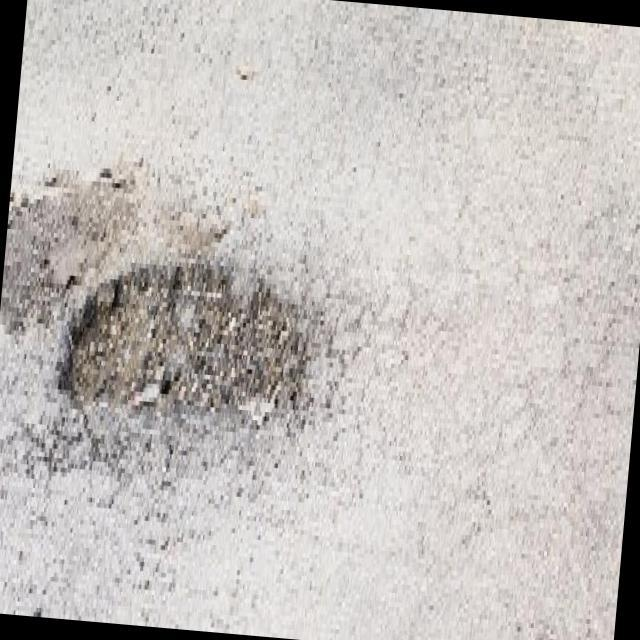Pothole: (61, 261, 307, 411)
